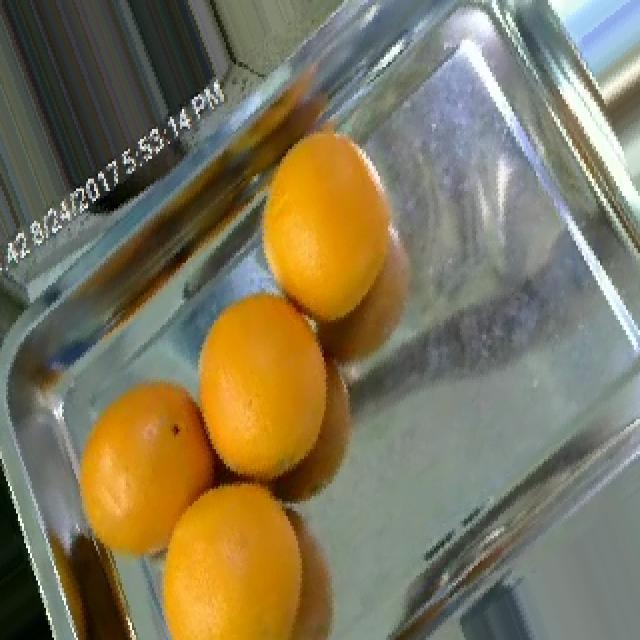Fruit: (192, 0, 354, 94)
